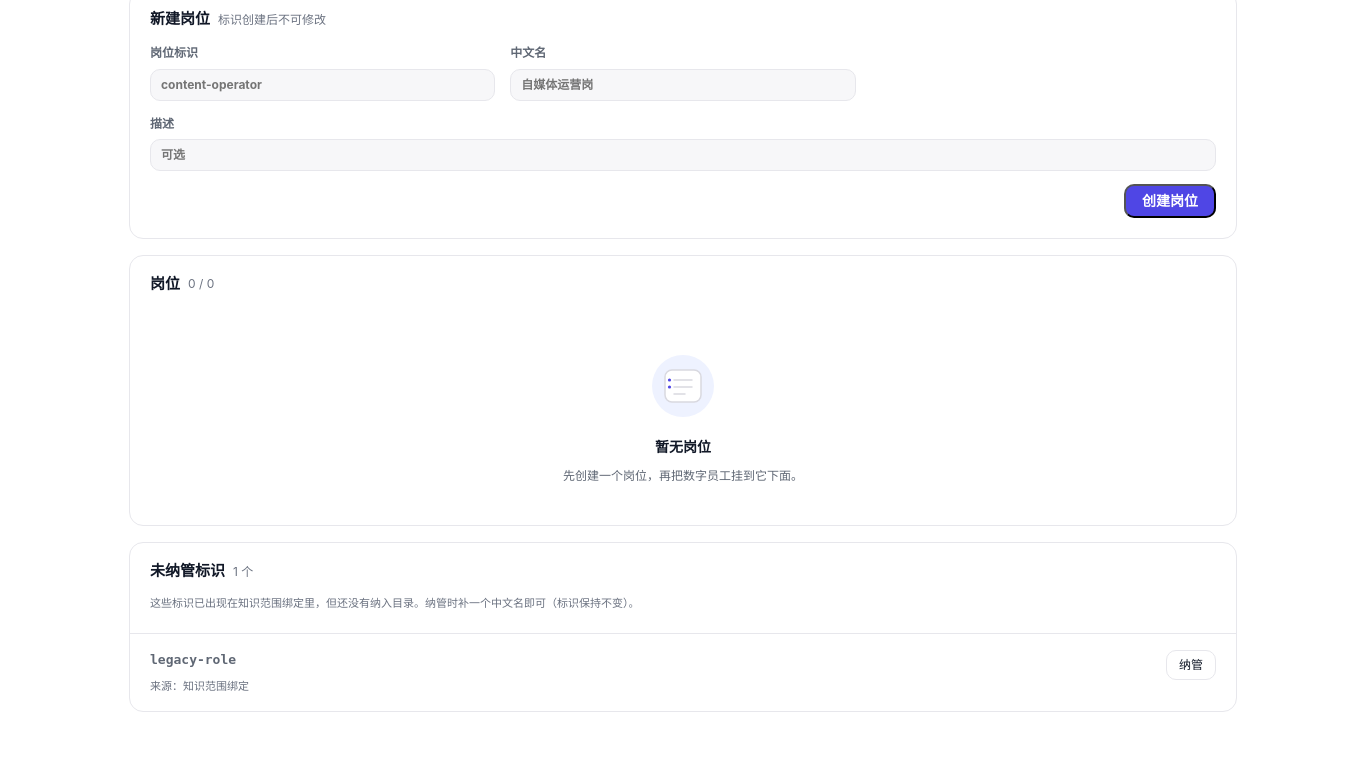
Scenario: WorkforceSettingsPage › prefills the create form when adopting an unmanaged identifier
(page scrolled)
Expected: the text "legacy-role" is shown, [150,650,249,671]
Click the button "纳管".
click(1191, 665)  # box [1166,650,1216,680]
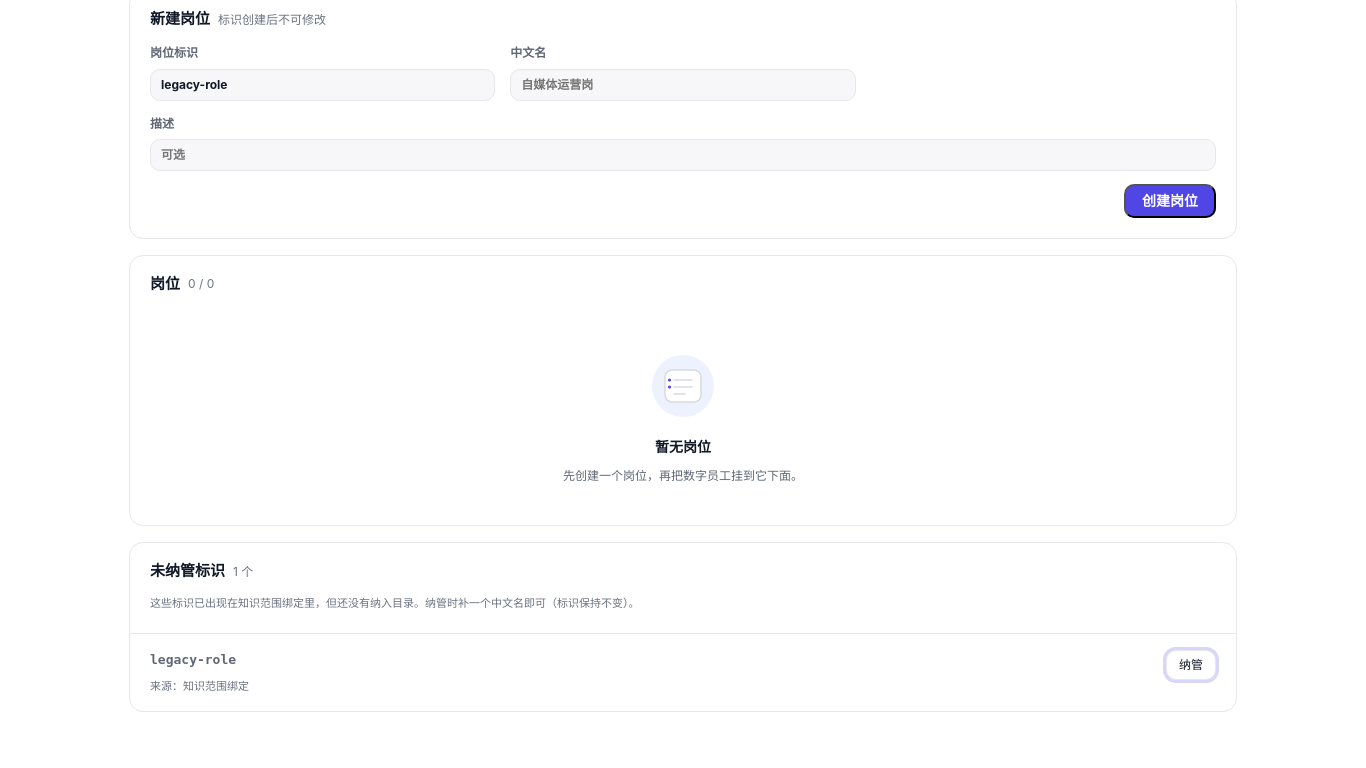
Now the field labelled "岗位标识" holds "legacy-role", box [150,68,495,100]
